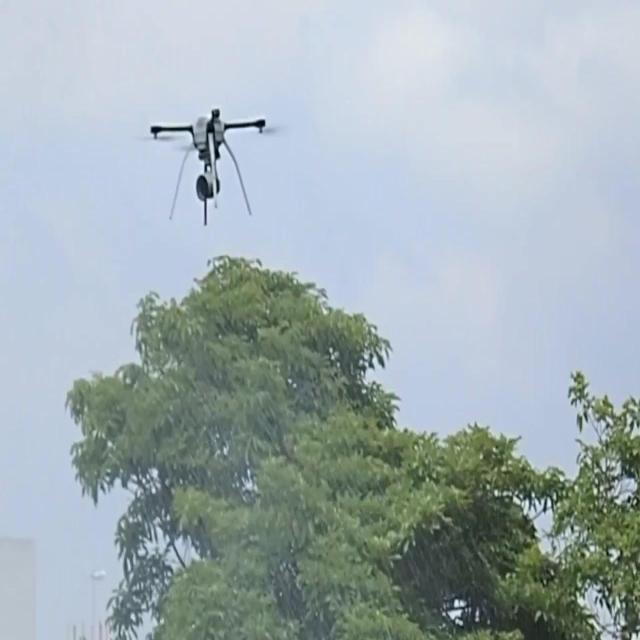drone: (145, 106, 273, 233)
